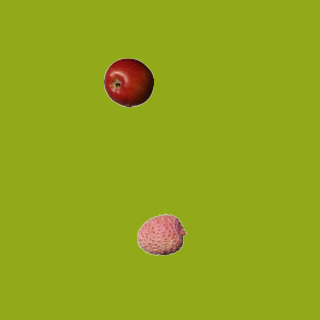Apple Braeburn: (103, 57, 153, 107)
Lychee: (136, 209, 186, 259)
